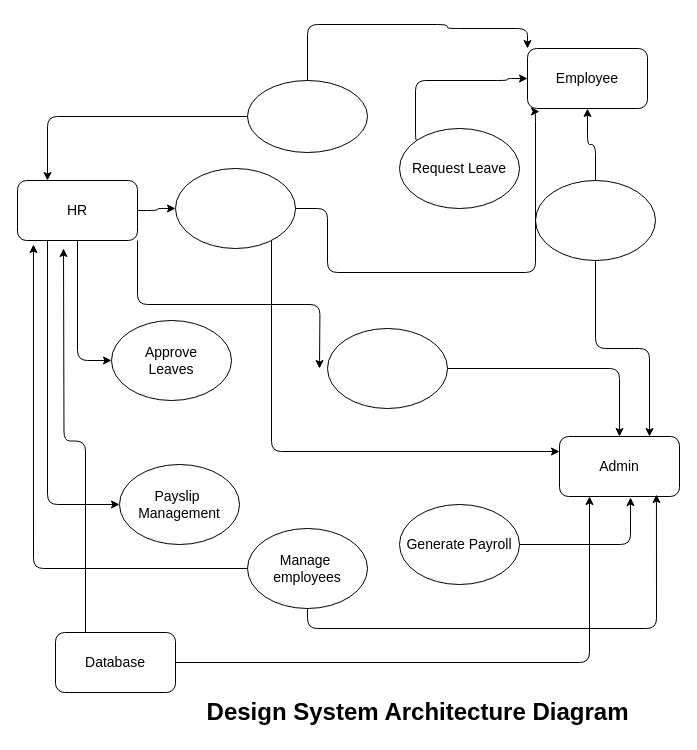
Image size: 697x750. Some labels were removed from this diagram. Each missing label, with the centre of its shape:
"Clock In / Out" belongs at point (307, 116).
"Login System" belongs at point (387, 368).
"View Attendance" belongs at point (235, 208).
"View Payslip" belongs at point (595, 220).
